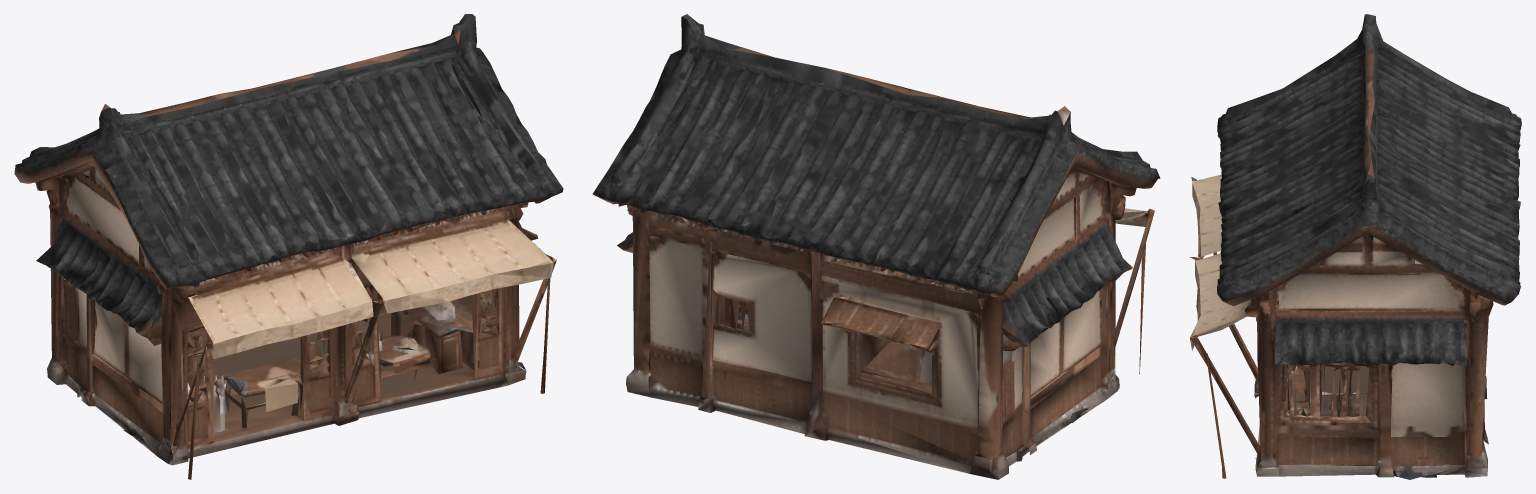
The model's file is 10_Book_Paper_Shop_LOD2.fbx.
3 views of the same model, side by side, from view 1: azimuth 30°, elevation 25°; view 2: azimuth 150°, elevation 25°; view 3: azimuth 270°, elevation 25° (orthographic). The views are drawn at different scales.
Visible parts, largest first — view 1: 10_Book_Paper_Shop_L2; view 2: 10_Book_Paper_Shop_L2; view 3: 10_Book_Paper_Shop_L2.
Boxes of the visible parts, x1,y1,x2,y2 form: 10_Book_Paper_Shop_L2: (14, 14, 563, 479); 10_Book_Paper_Shop_L2: (592, 14, 1160, 479); 10_Book_Paper_Shop_L2: (1189, 14, 1521, 479).
Bounding box in the file's own units: 7.19 × 5.5 × 5.5.
